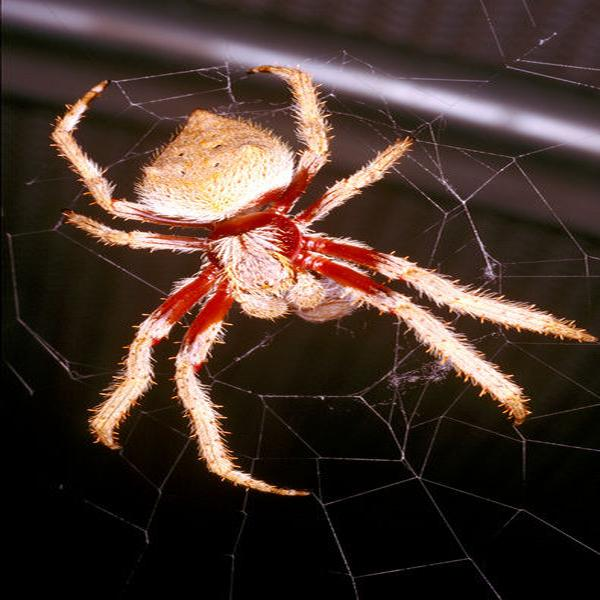Garden Orb Weaver Spider: (55, 78, 558, 492)
